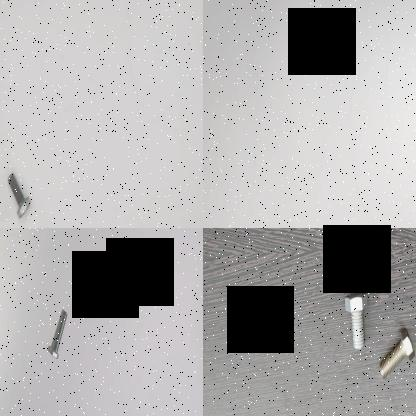Bolts: (342, 289, 376, 355), (378, 324, 416, 381), (0, 167, 37, 223), (44, 310, 70, 362)
